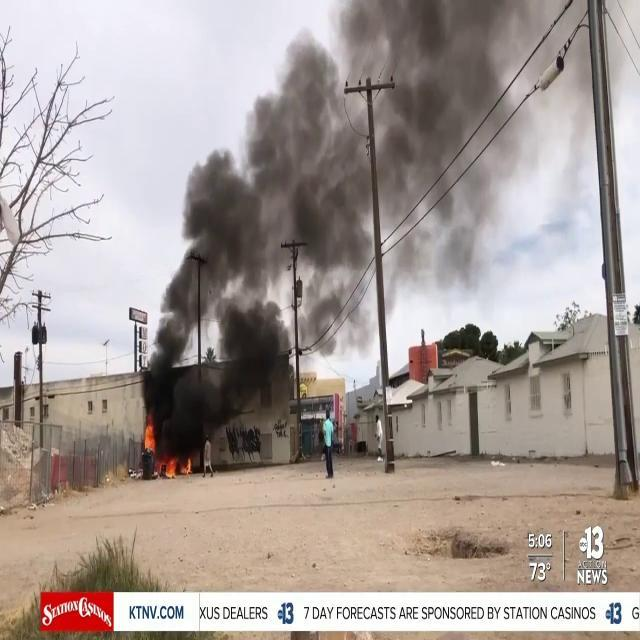Fire: (154, 448, 194, 478), (141, 415, 159, 473)
Smoke: (145, 0, 524, 420)
